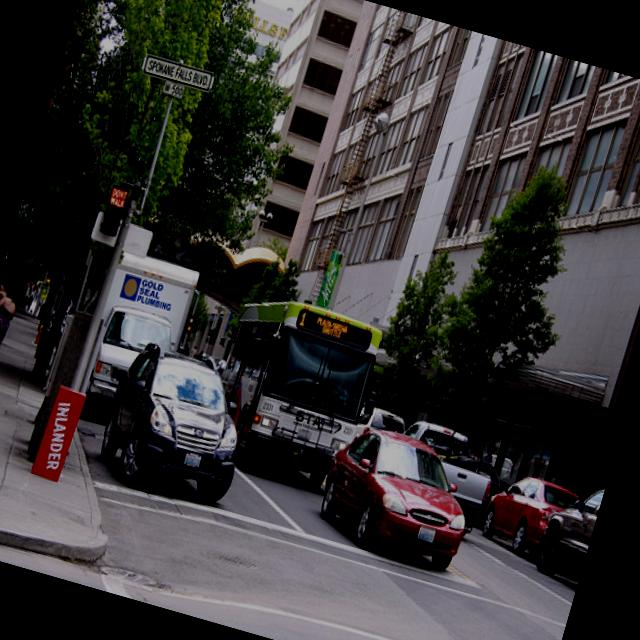Vehicle: (196, 289, 398, 499), (90, 330, 264, 510), (311, 418, 484, 572), (72, 248, 200, 441), (381, 416, 504, 536), (475, 466, 581, 565), (528, 471, 606, 587), (352, 405, 409, 456)
